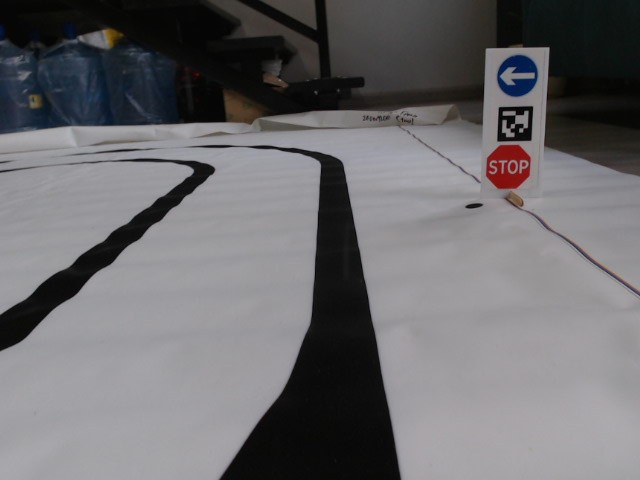Stop: (484, 143, 532, 189)
